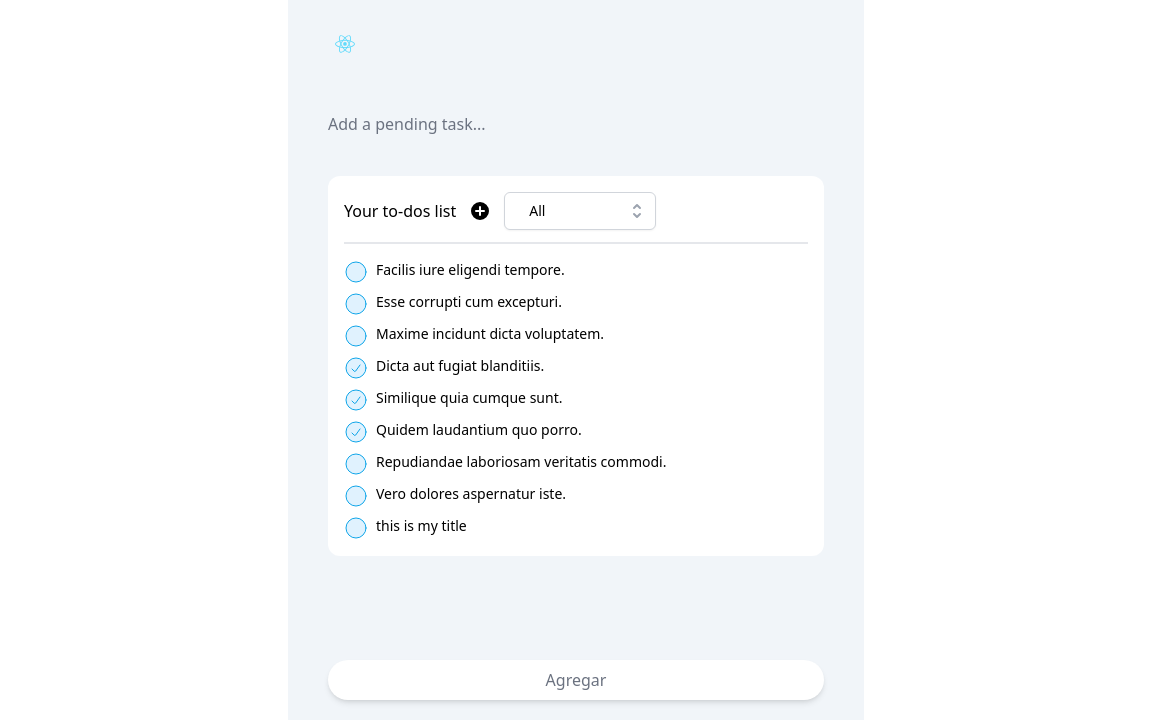
Scenario: TodoManagerForm Component › should clear the todo list
Click the button named "clear todo list" at (480, 211), box 468,199 -> 492,223
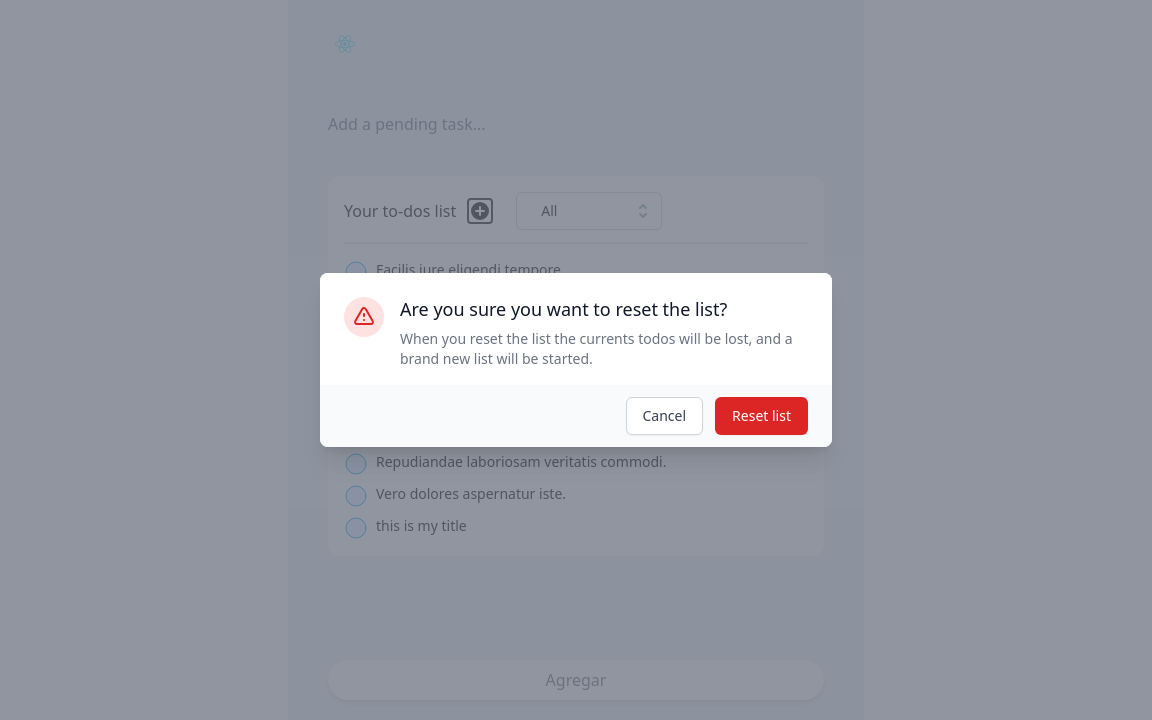
Click the button "Reset list" at (762, 416), box 715,397 -> 808,435
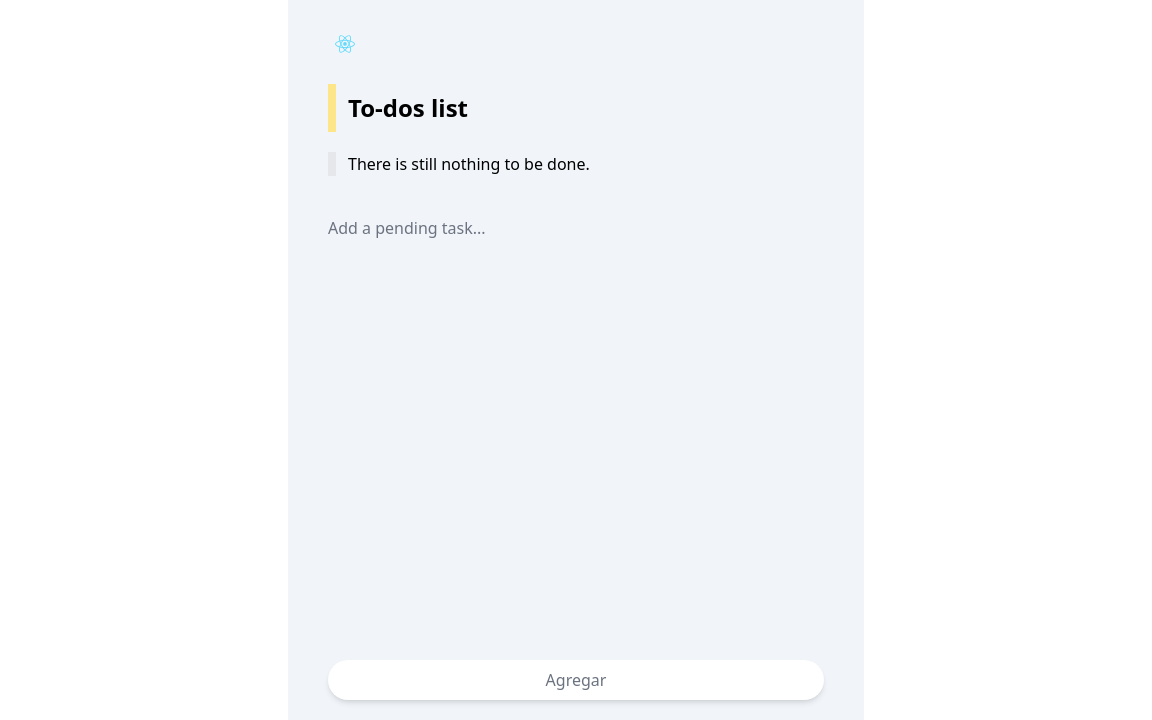
Result: the heading "There is still nothing to be done." is shown at 328,152 -> 824,176
